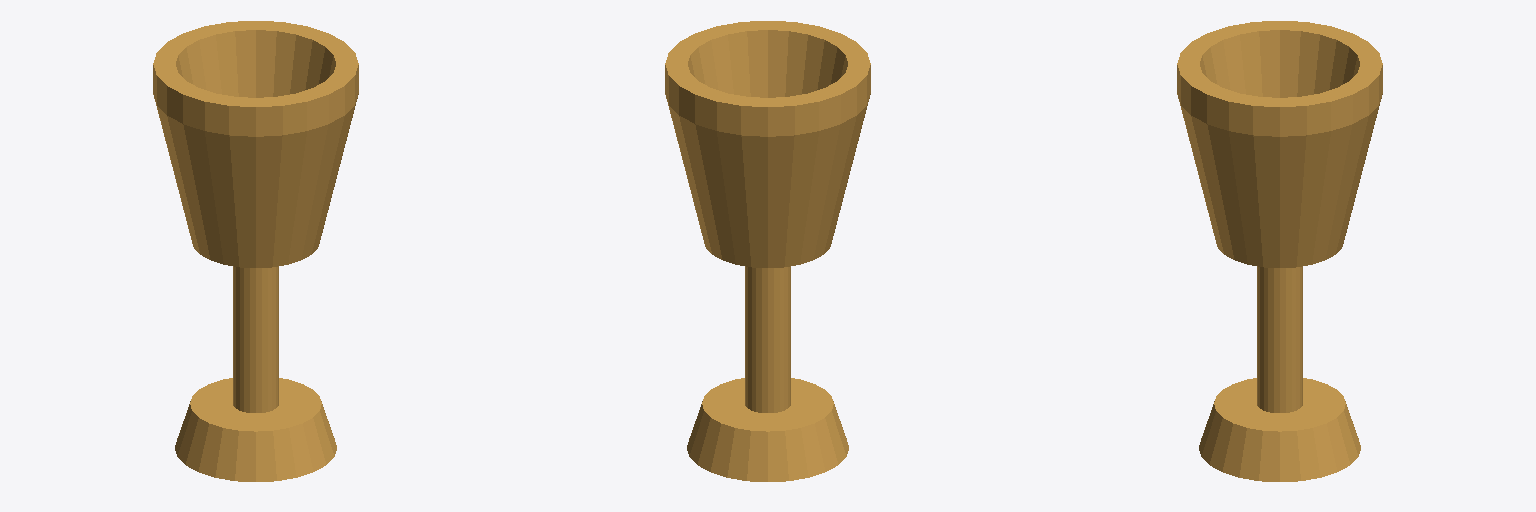
The model's file is detailChalice.obj.
3 renders of one model, left to right at view 1: azimuth 30°, elevation 25°; view 2: azimuth 150°, elevation 25°; view 3: azimuth 270°, elevation 25°, orthographic.
Visible parts, largest first — view 1: detailChalice; view 2: detailChalice; view 3: detailChalice.
Boxes of the visible parts, x1,y1,x2,y2 form: detailChalice: [153, 21, 358, 481]; detailChalice: [665, 21, 870, 481]; detailChalice: [1177, 21, 1382, 481].
Size of the model in its own units: 0.0968 by 0.1995 by 0.0968.